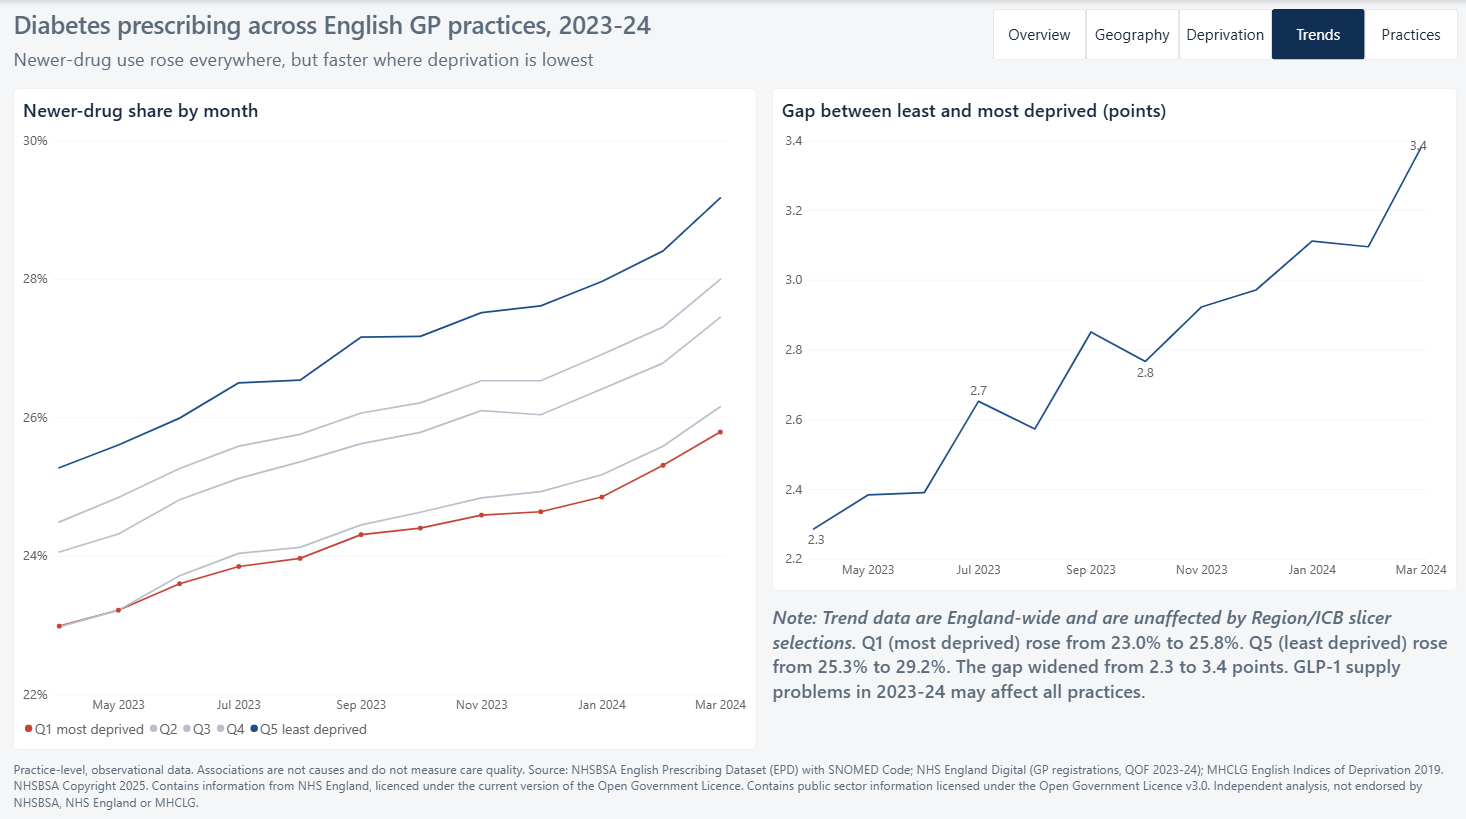

The page's visual inventory and layout, read from the dashboard file:
{"tool":"powerbi","page":{"name":"Trends","canvas":[2560,1440],"ordinal":3},"visuals":[{"type":"pageNavigator","box":[1731,15.7,813,88.9],"z":0},{"type":"textbox","box":[23.5,13.1,1401.7,68],"z":1000},{"type":"textbox","box":[23.5,81.1,1294.5,52.3],"z":2000},{"type":"textbox","box":[23.3,1326.5,2516.4,96],"z":3000},{"type":"lineChart","title":"Newer-drug share by month","fields":{"Category":["dashboard_trend.month_start"],"Series":["dashboard_trend.imd_group"],"Y":["_Measures.Trend Share"]},"box":[23.3,154.2,1294.5,1152],"z":4000},{"type":"lineChart","title":"Gap between least and most deprived (points)","fields":{"Category":["dashboard_trend.month_start"],"Y":["_Measures.Trend Gap (pp)"]},"box":[1346.9,154.2,1192.7,875.6],"z":5000},{"type":"textbox","box":[1346.9,1053.1,1192.7,253.1],"z":6000}]}

Visuals, with their boxes in screenshot pixels (x1, y1, x2, y2), scaled from the page's 2560x1440 canvas onto the 1466x819 screenshot:
pageNavigator: 991,9,1457,59
textbox: 13,7,816,46
textbox: 13,46,755,76
textbox: 13,754,1454,809
"Newer-drug share by month" lineChart: 13,88,755,743
"Gap between least and most deprived (points)" lineChart: 771,88,1454,586
textbox: 771,599,1454,743
